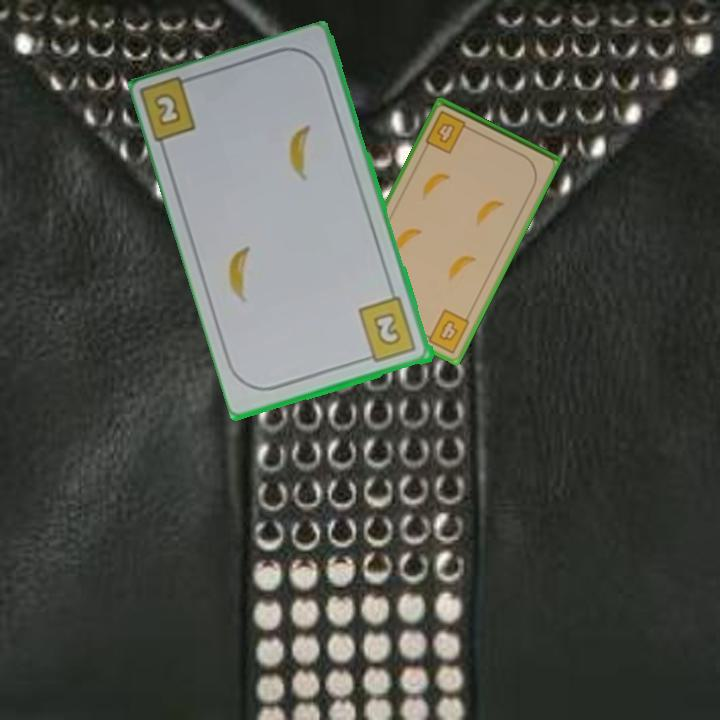2b: (355, 294, 420, 366), (150, 89, 185, 130)
4b: (419, 306, 473, 356), (422, 107, 476, 157)
